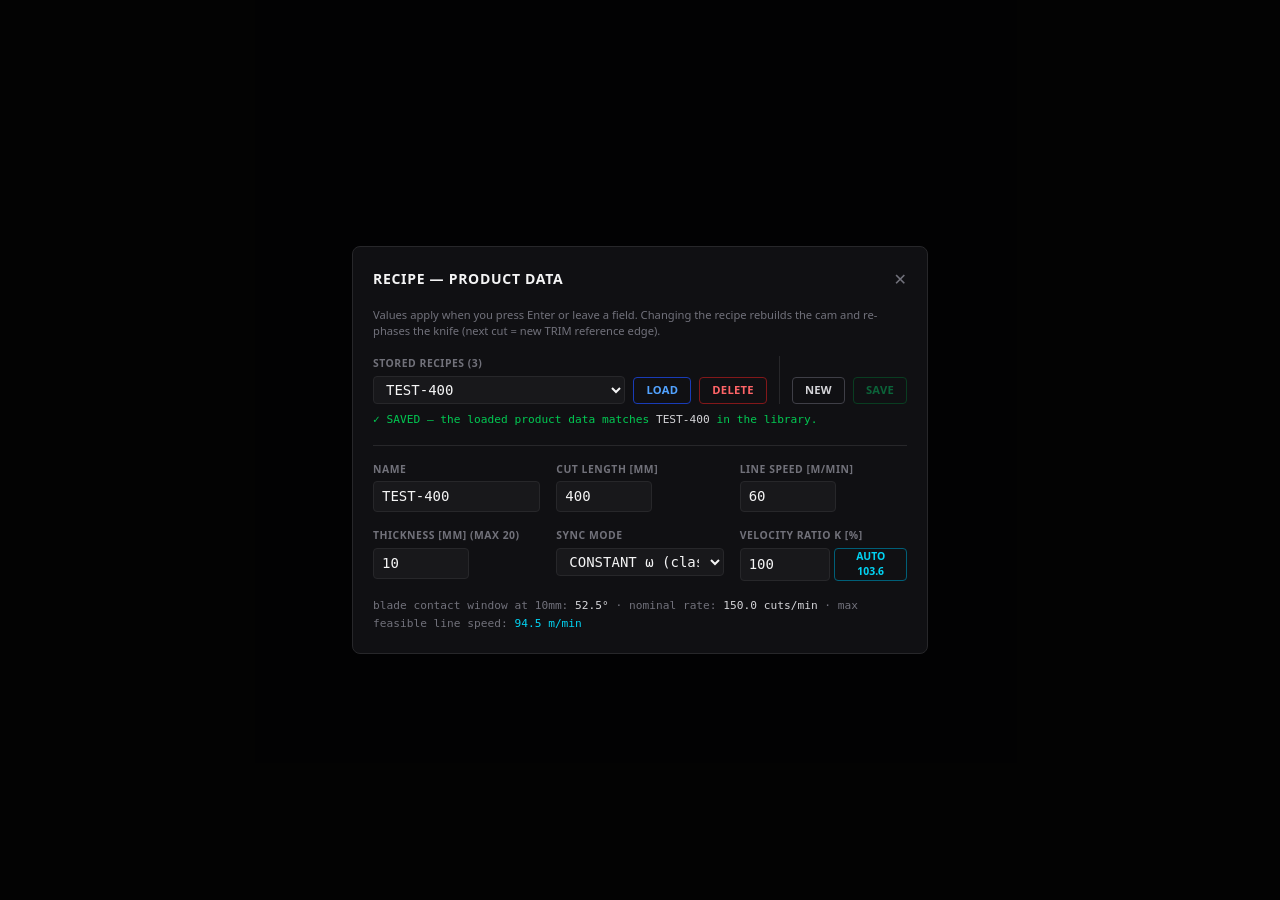
Scenario: recipe editor — the library › flags unsaved edits, then saves them into the library
The width and height of the screenshot is (1280, 900).
Replace the text in the number field labelled "Cut length [mm]" with "650": (604, 497) x1=556 y1=481 x2=652 y2=512
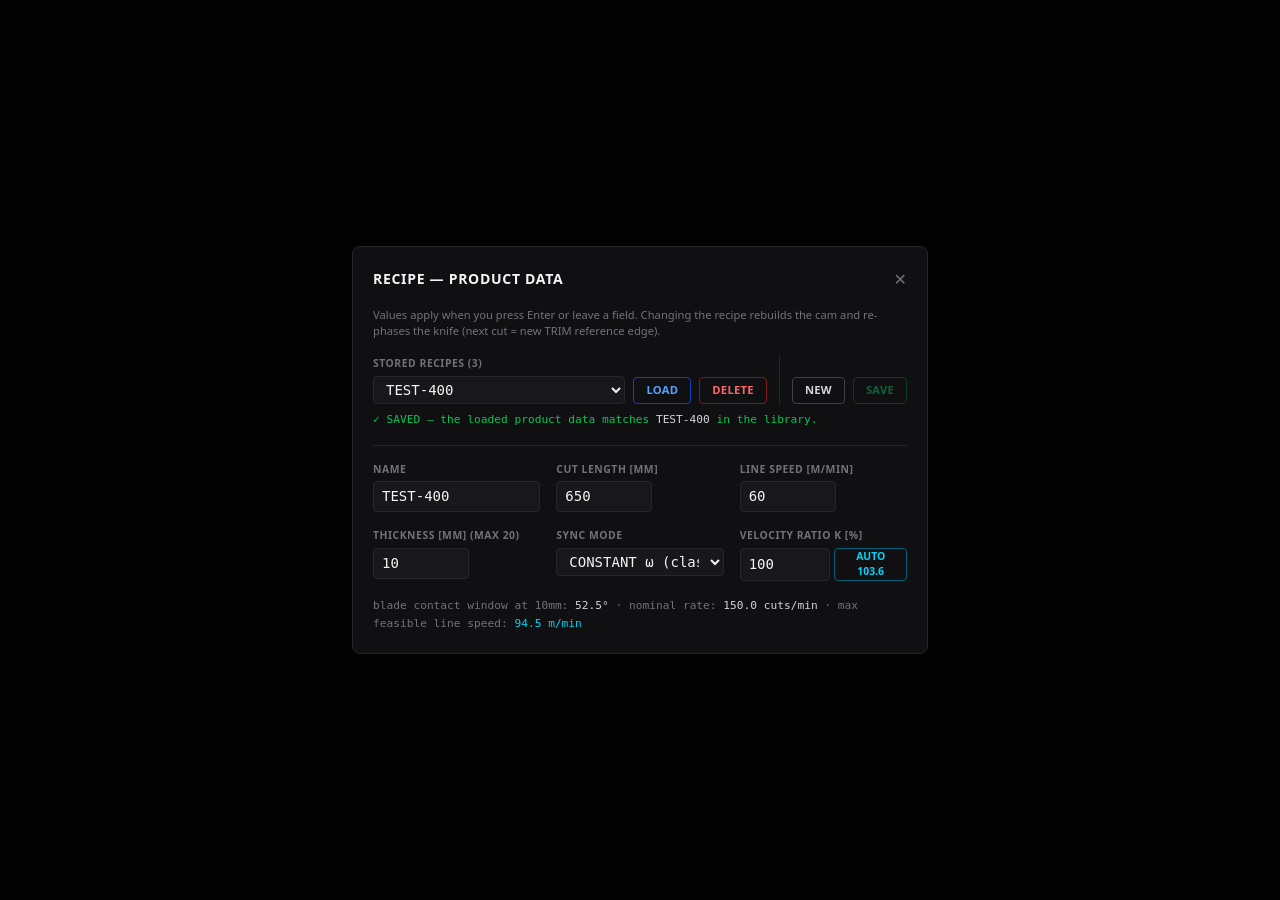
Leave the number field labelled "Cut length [mm]", box x1=556 y1=481 x2=652 y2=512
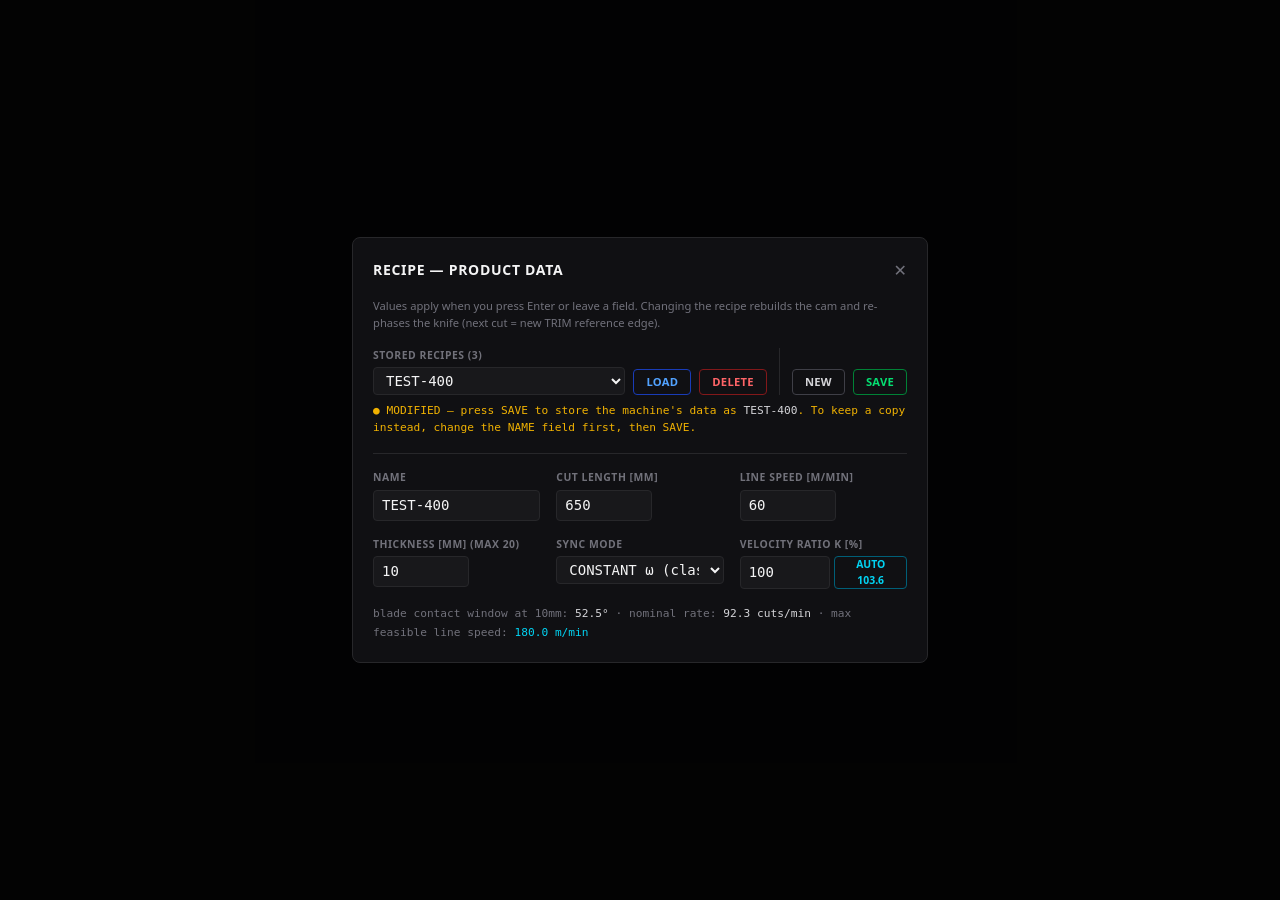
Check: the text "MODIFIED" is shown, box x1=386 y1=404 x2=440 y2=417
Click the button "Save": (880, 382) x1=853 y1=369 x2=907 y2=395
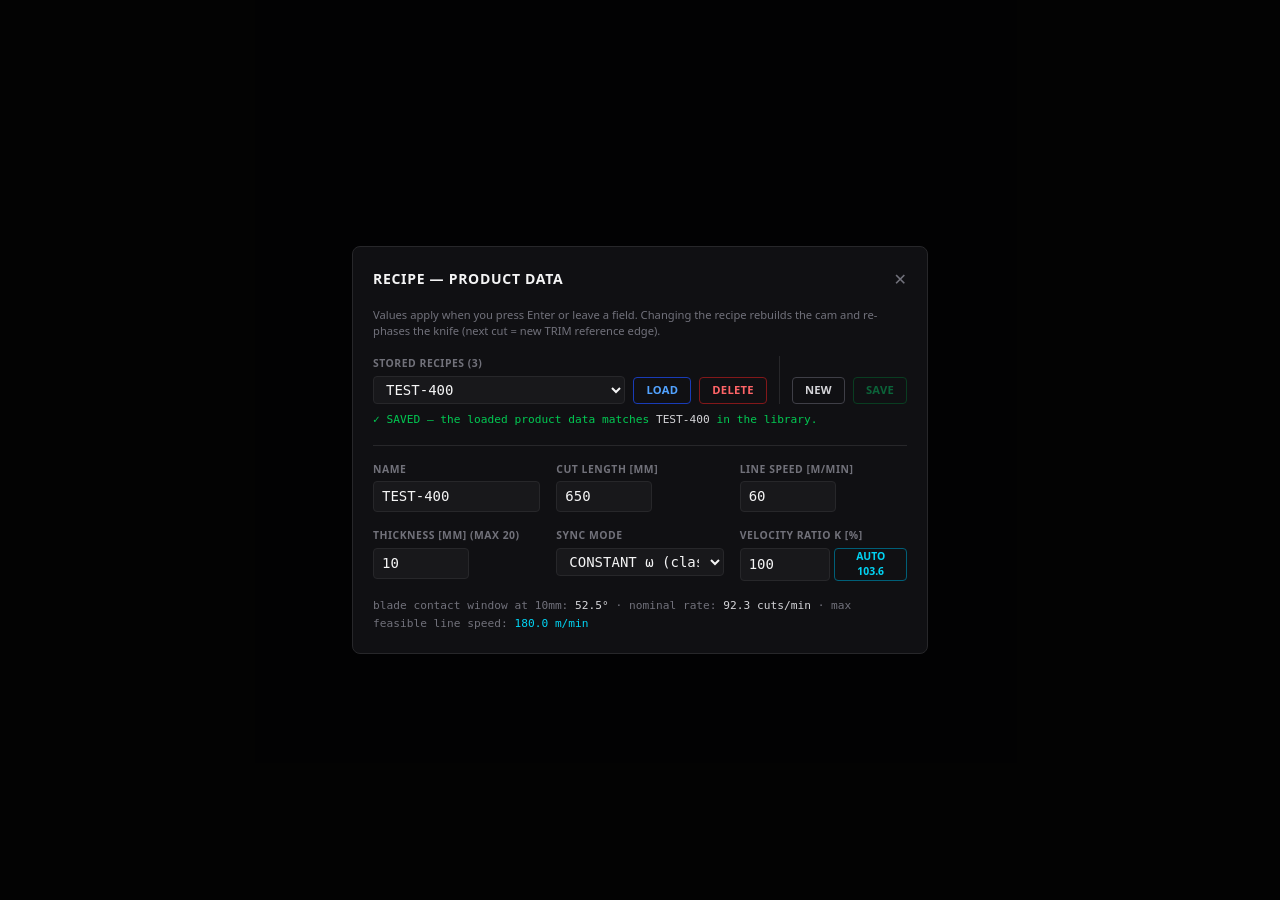
Check: the text "SAVED" is shown, box x1=373 y1=413 x2=656 y2=426
